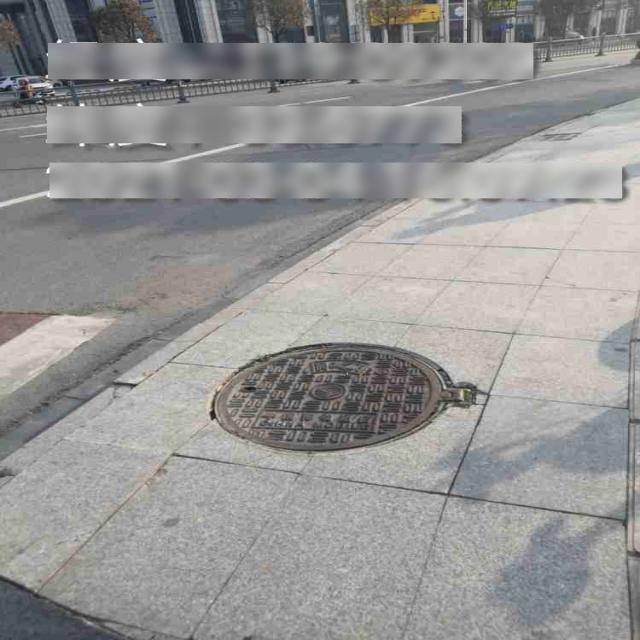Good: (210, 338, 482, 466)
